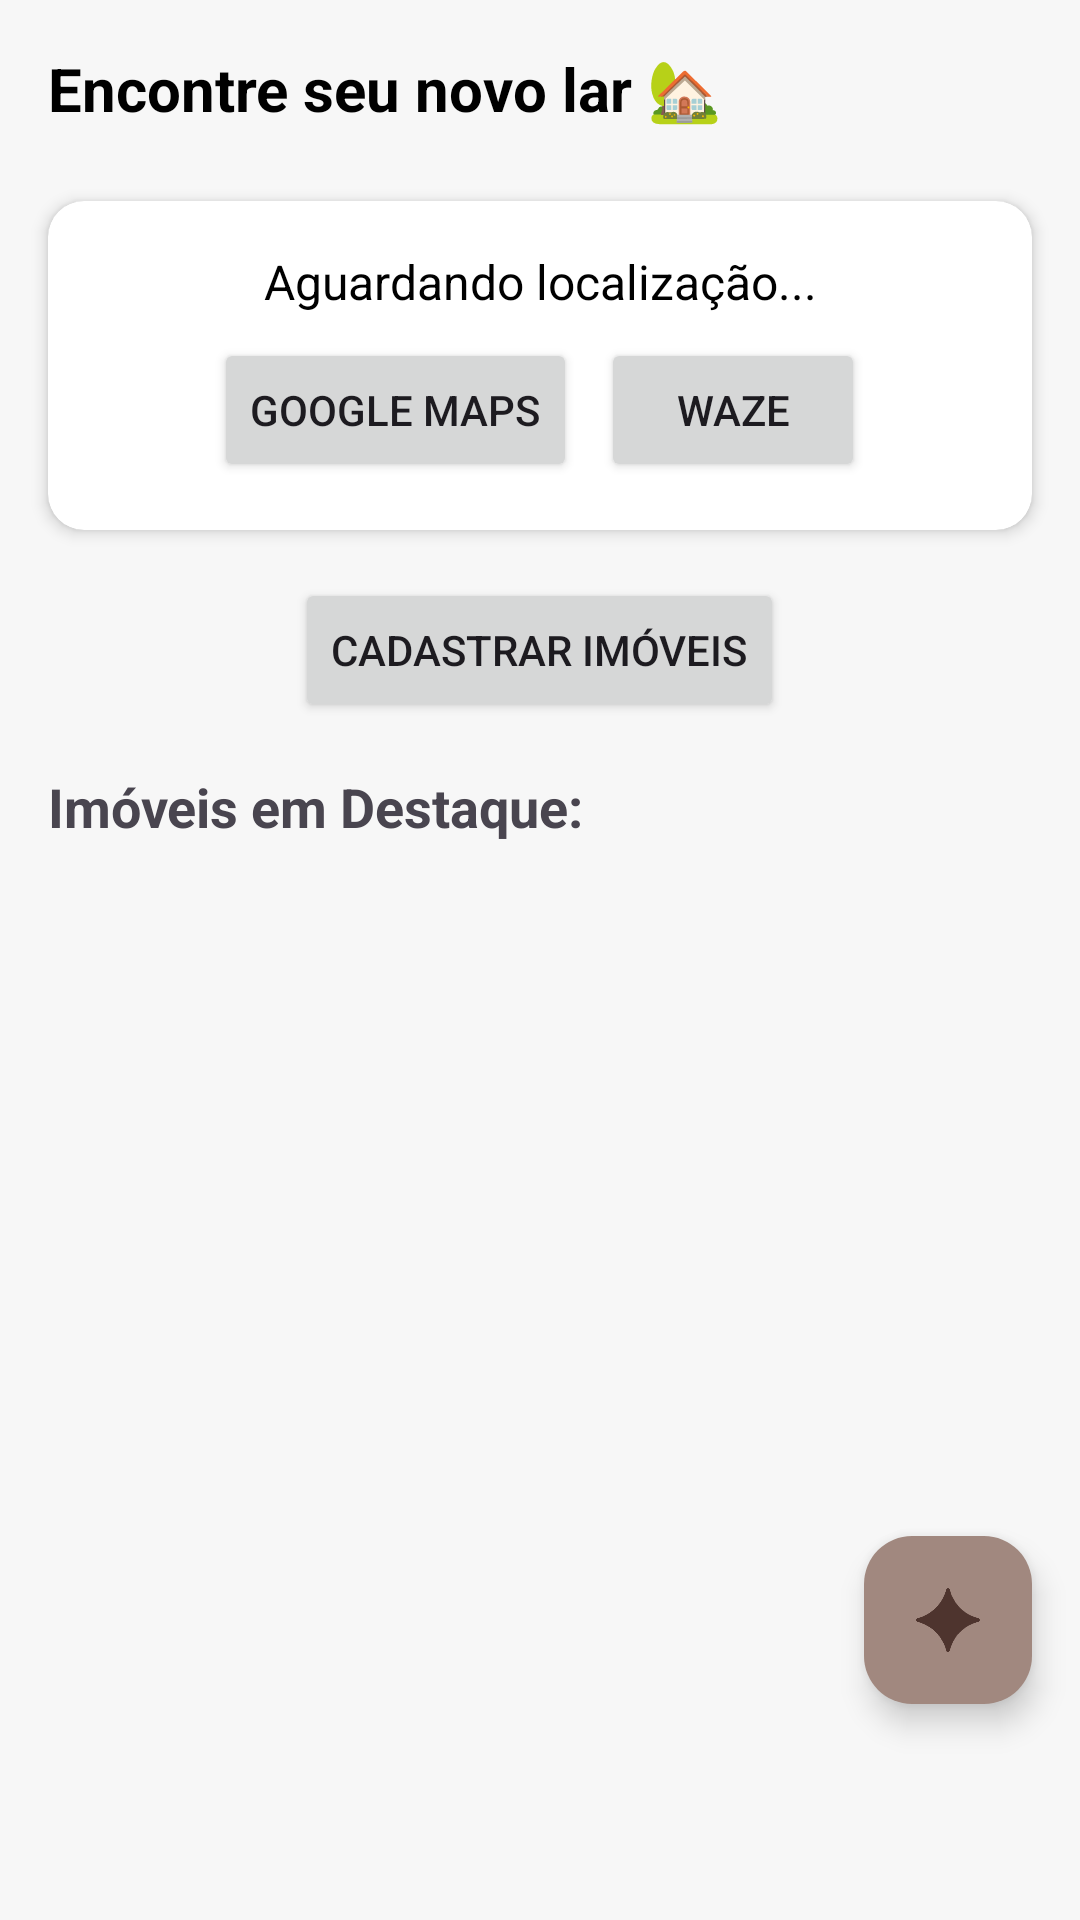

Where icons sit on this 1080×1920 app screen, as (x1, y1, x2, y2):
Abrir IA: (864, 1536, 1032, 1704)
